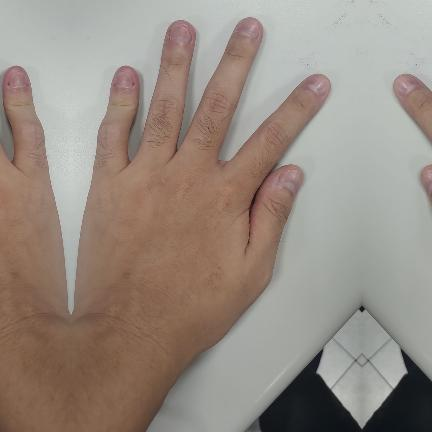Nail: (278, 170, 303, 195), (305, 74, 330, 97), (394, 74, 418, 97), (235, 19, 260, 38), (168, 24, 191, 43), (114, 71, 133, 87), (7, 71, 26, 87), (421, 170, 432, 195)
